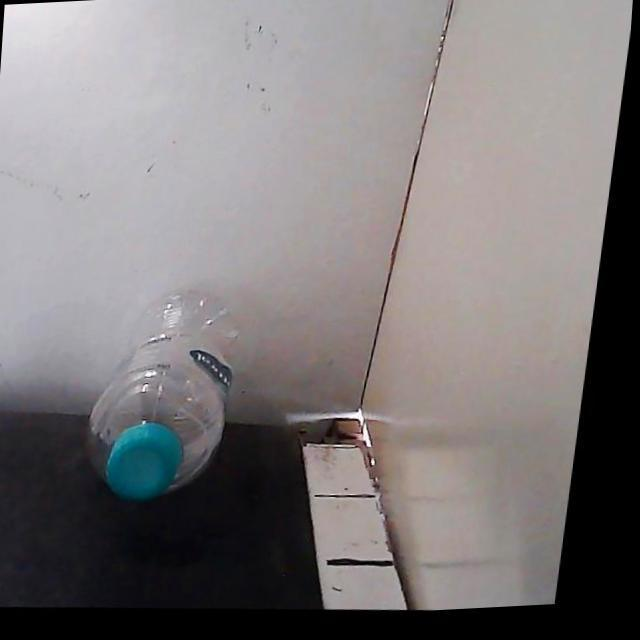plastico: (87, 290, 237, 501)
